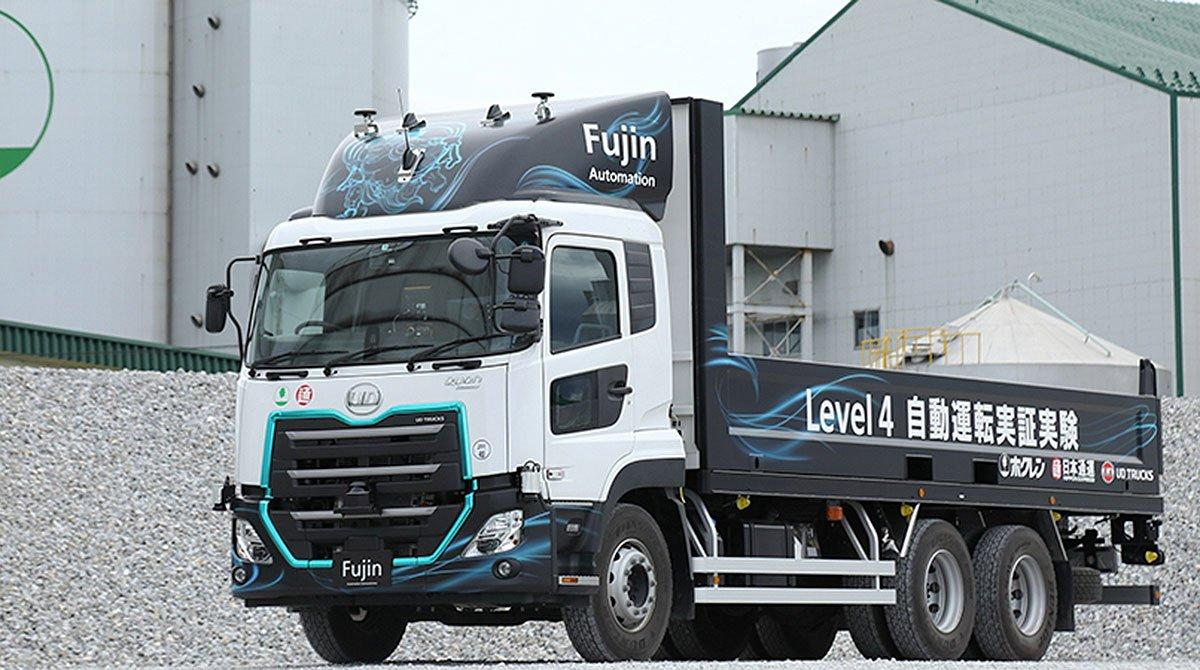truck: (219, 52, 1178, 668)
